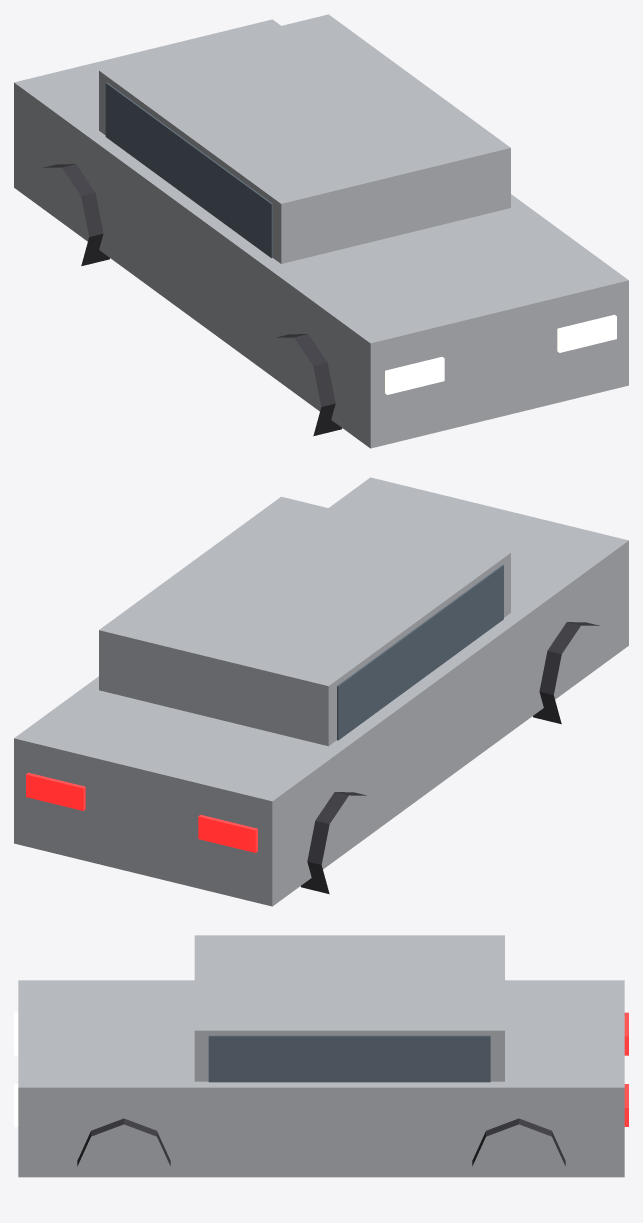
The model's file is car_parked_silver.glb.
The picture shows the model from 3 angles, top to bottom: view 1: azimuth 30°, elevation 25°; view 2: azimuth 150°, elevation 25°; view 3: azimuth 270°, elevation 25°; orthographic projection. The views are drawn at different scales.
Parts seen in each view (by area): view 1: car_parked_silver; view 2: car_parked_silver; view 3: car_parked_silver.
Boxes of the visible parts, x1,y1,x2,y2 form: car_parked_silver: [14, 14, 628, 448]; car_parked_silver: [14, 477, 628, 906]; car_parked_silver: [14, 935, 628, 1177].
Bounding box in the file's own units: 2 × 1.3 × 4.36.
